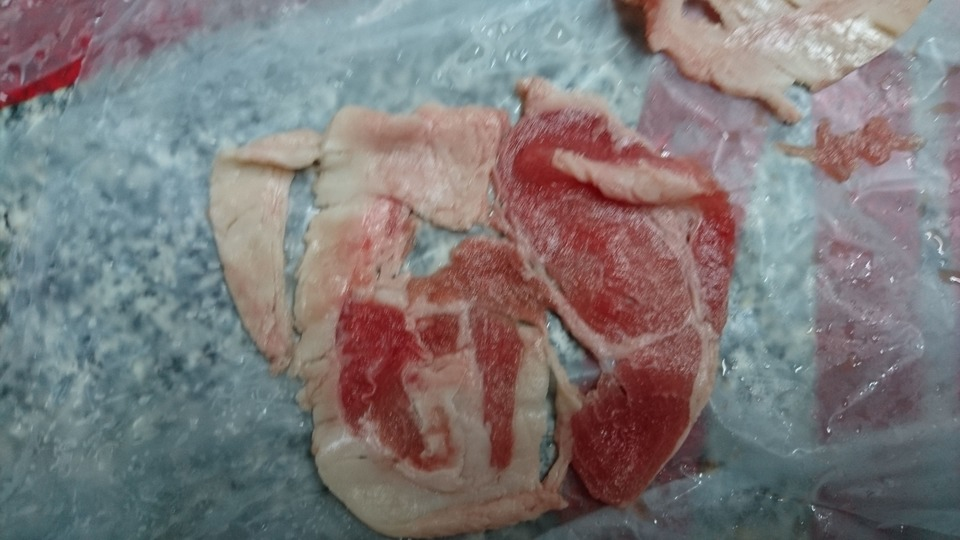restructured meat: (223, 98, 724, 529)
